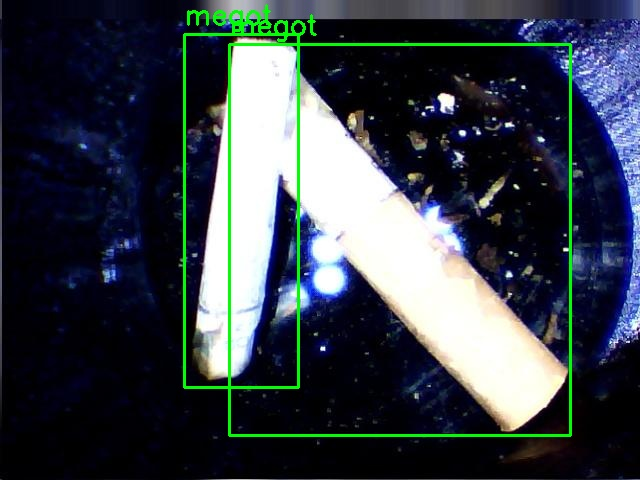megot: (229, 44, 570, 435), (184, 34, 298, 387)
